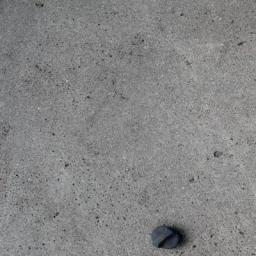FOD: (147, 224, 185, 252)
